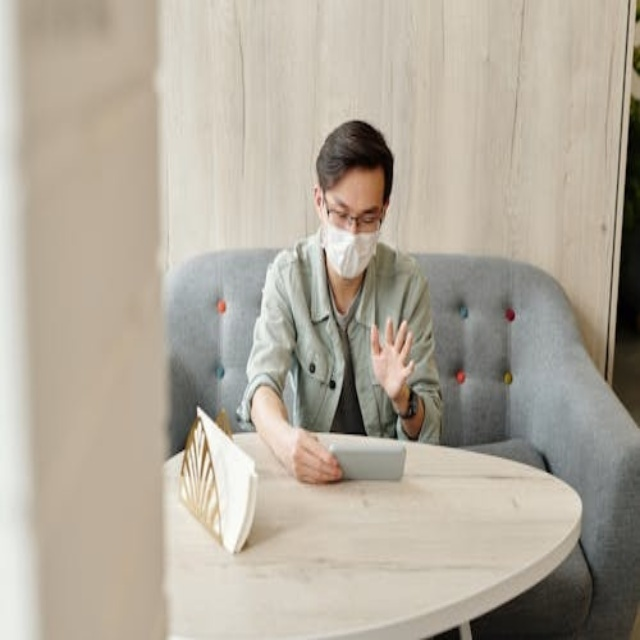Gafas: (323, 190, 385, 233)
Mascara: (321, 204, 379, 280)
Sin_guantes: (369, 317, 417, 404), (288, 421, 344, 486)
